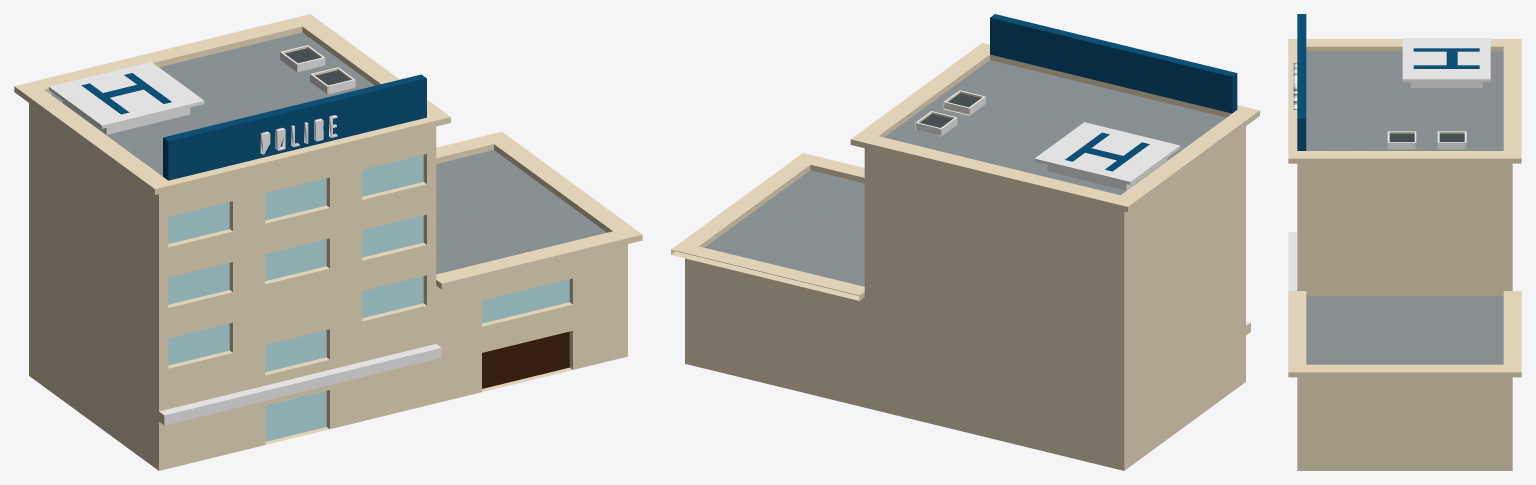
Rendered from police.fbx.
3 renders of one model, left to right at view 1: azimuth 30°, elevation 25°; view 2: azimuth 150°, elevation 25°; view 3: azimuth 270°, elevation 25°, orthographic. The views are drawn at different scales.
Visible parts, largest first — view 1: Text; view 2: Text; view 3: Text.
Part boxes in pixels (x1=…): Text: x1=14, y1=14, x2=642, y2=470; Text: x1=671, y1=14, x2=1259, y2=470; Text: x1=1288, y1=14, x2=1521, y2=470.
Size of the model in its own units: 2600 by 1667 by 1300.
